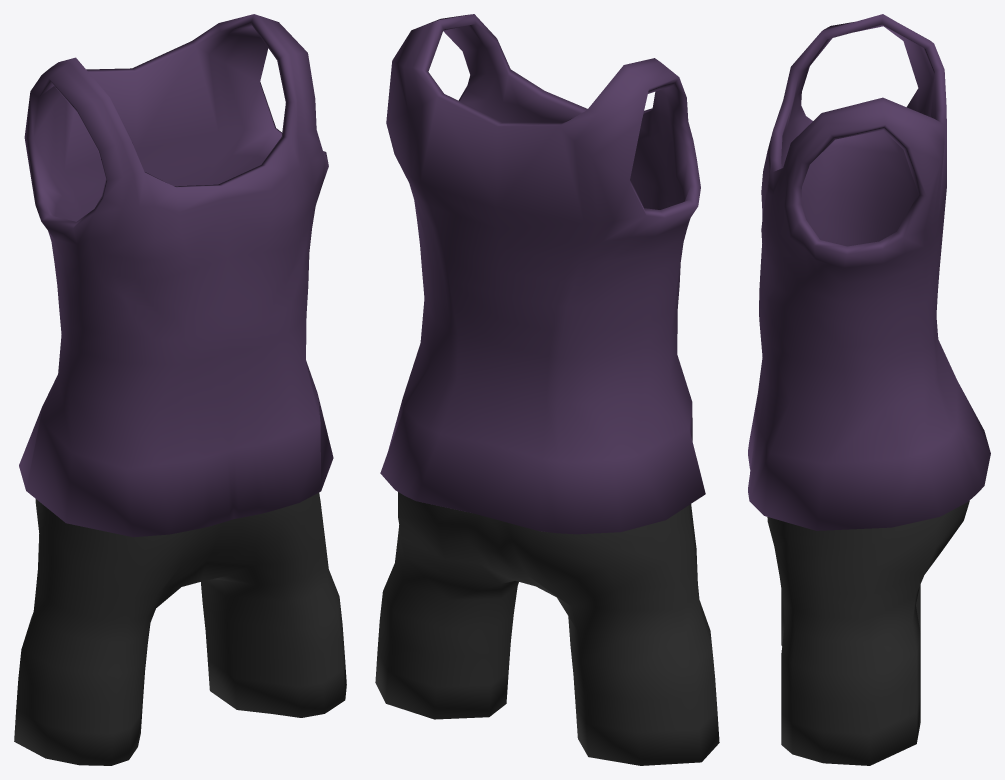
Rendered from CartoonMaleClothes.fbx.
3 renders of one model, left to right at view 1: azimuth 30°, elevation 25°; view 2: azimuth 150°, elevation 25°; view 3: azimuth 270°, elevation 25°, orthographic. The views are drawn at different scales.
Visible parts, largest first — view 1: Tanktop2, Shorts; view 2: Tanktop2, Shorts; view 3: Tanktop2, Shorts.
Part boxes in pixels (box(x1,y1,x2,y2)): Tanktop2: box(19, 14, 333, 537); Shorts: box(14, 492, 346, 765); Tanktop2: box(380, 14, 705, 534); Shorts: box(375, 492, 719, 765); Tanktop2: box(748, 14, 990, 530); Shorts: box(767, 501, 969, 765).
Bounding box in the file's own units: 35.11 × 71.1 × 24.38.
